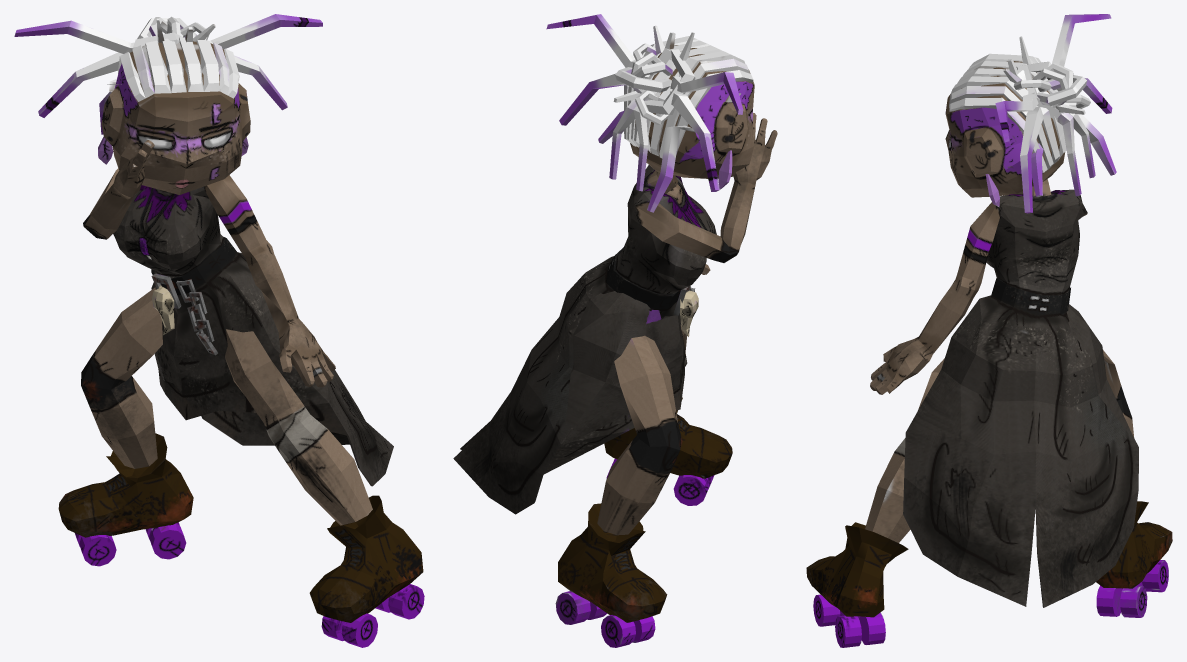
Rendered from bruja_000046.obj.
3 renders of one model, left to right at view 1: azimuth 30°, elevation 25°; view 2: azimuth 150°, elevation 25°; view 3: azimuth 270°, elevation 25°, orthographic. The views are drawn at different scales.
Visible parts, largest first — view 1: Bruja_Plane.001; view 2: Bruja_Plane.001; view 3: Bruja_Plane.001.
Part boxes in pixels (left/top/right/bottom): Bruja_Plane.001: left=14, top=14, right=424, bottom=647; Bruja_Plane.001: left=453, top=14, right=777, bottom=647; Bruja_Plane.001: left=806, top=14, right=1172, bottom=647.
Size of the model in its own units: 9.26 by 15.44 by 9.25.
